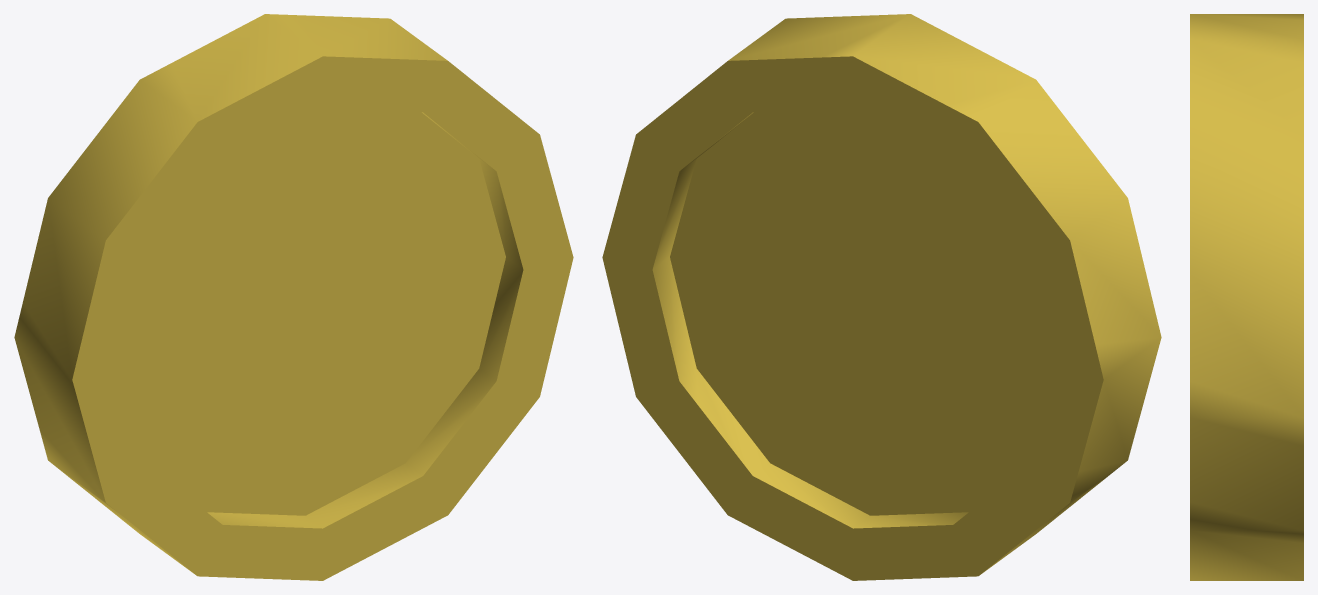
Rendered from Coin.fbx.
The picture shows the model from 3 angles, left to right: view 1: azimuth 30°, elevation 25°; view 2: azimuth 150°, elevation 25°; view 3: azimuth 270°, elevation 25°; orthographic projection.
Visible parts, largest first — view 1: Coin; view 2: Coin; view 3: Coin.
Boxes of the visible parts, x1,y1,x2,y2 form: Coin: (14, 14, 573, 580); Coin: (602, 14, 1161, 580); Coin: (1190, 14, 1303, 580).
Bounding box in the file's own units: 100 × 100 × 20.
